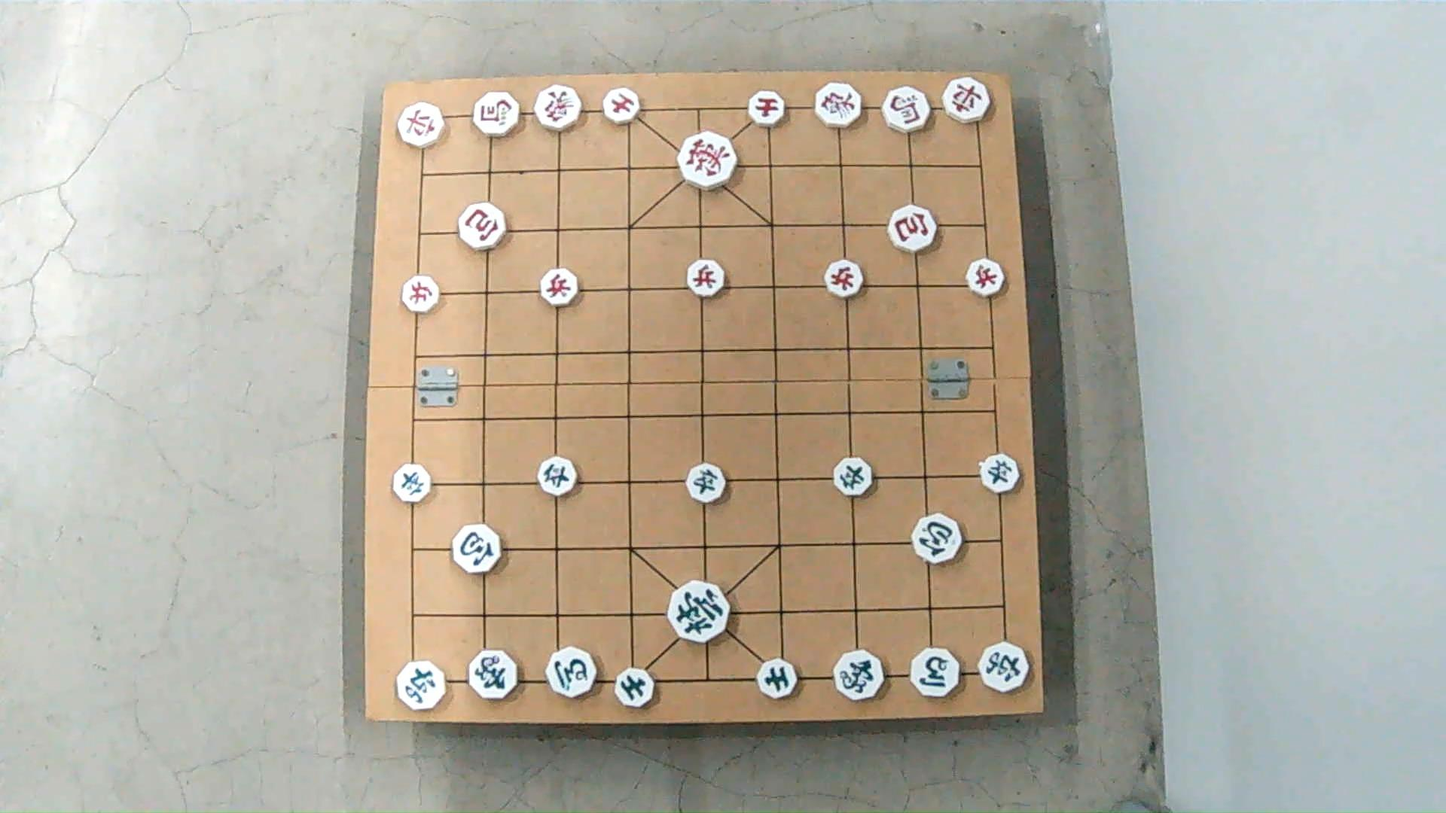cha_green: (977, 641, 1031, 695), (397, 663, 450, 708)
cha_red: (938, 80, 991, 121), (397, 106, 449, 146)
jol_green: (828, 459, 875, 495), (978, 456, 1024, 491), (685, 465, 728, 501), (535, 457, 578, 493), (393, 468, 433, 504)
jol_red: (686, 262, 728, 297), (965, 261, 1008, 295), (822, 263, 865, 297), (400, 277, 443, 310), (538, 270, 579, 304)
ma_green: (909, 650, 964, 698), (542, 650, 596, 698)
ma_red: (473, 90, 524, 137), (881, 89, 934, 131)
po_green: (449, 524, 505, 571), (910, 517, 962, 562)
po_red: (890, 209, 941, 251), (460, 206, 509, 248)
sa_green: (612, 669, 656, 708), (758, 661, 801, 699)
sa_red: (601, 89, 642, 122), (747, 93, 789, 125)
sang_green: (833, 647, 886, 698), (465, 650, 518, 697)
sang_red: (532, 86, 584, 129), (813, 84, 865, 126)
wang_green: (667, 587, 734, 642)
wang_red: (679, 135, 739, 186)
